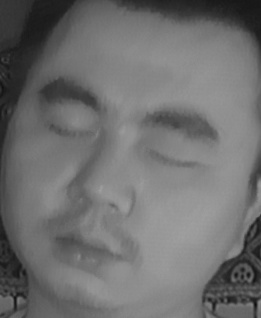blink: (147, 137, 198, 174), (45, 109, 93, 147)
mouth: (42, 216, 130, 272)
